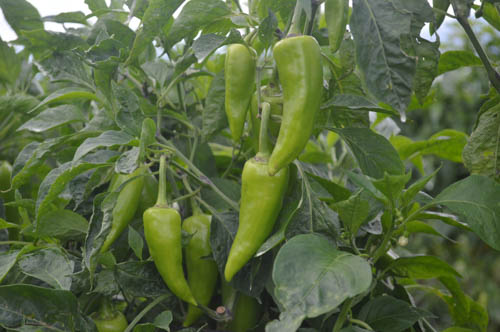ChiliPepper: (258, 35, 323, 192), (229, 156, 292, 275), (143, 202, 196, 312), (182, 217, 223, 326), (98, 184, 149, 248), (224, 41, 252, 150)
